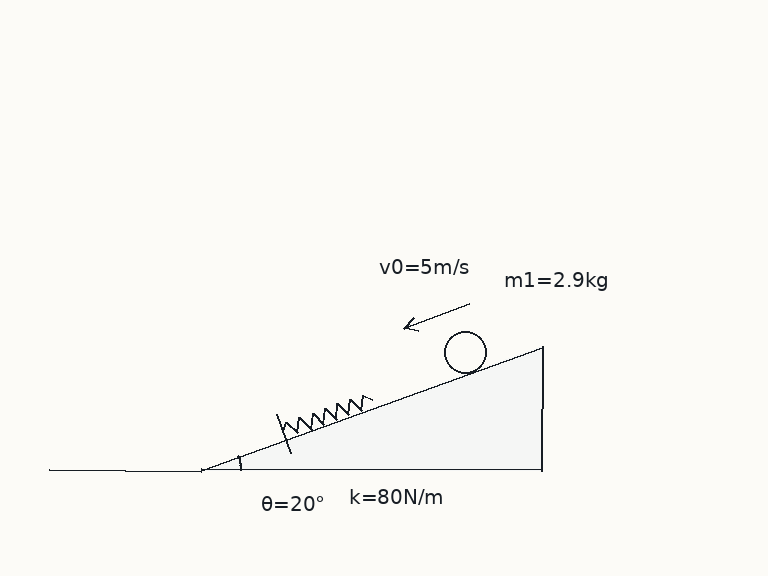ball: (442, 329, 488, 375)
ramp: (199, 344, 543, 472)
spring: (281, 392, 373, 435)
